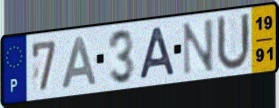3: (106, 27, 137, 87)
7: (29, 38, 58, 94)
A: (138, 25, 178, 81), (60, 35, 99, 92)
N: (181, 17, 216, 78)
U: (215, 11, 253, 74)
